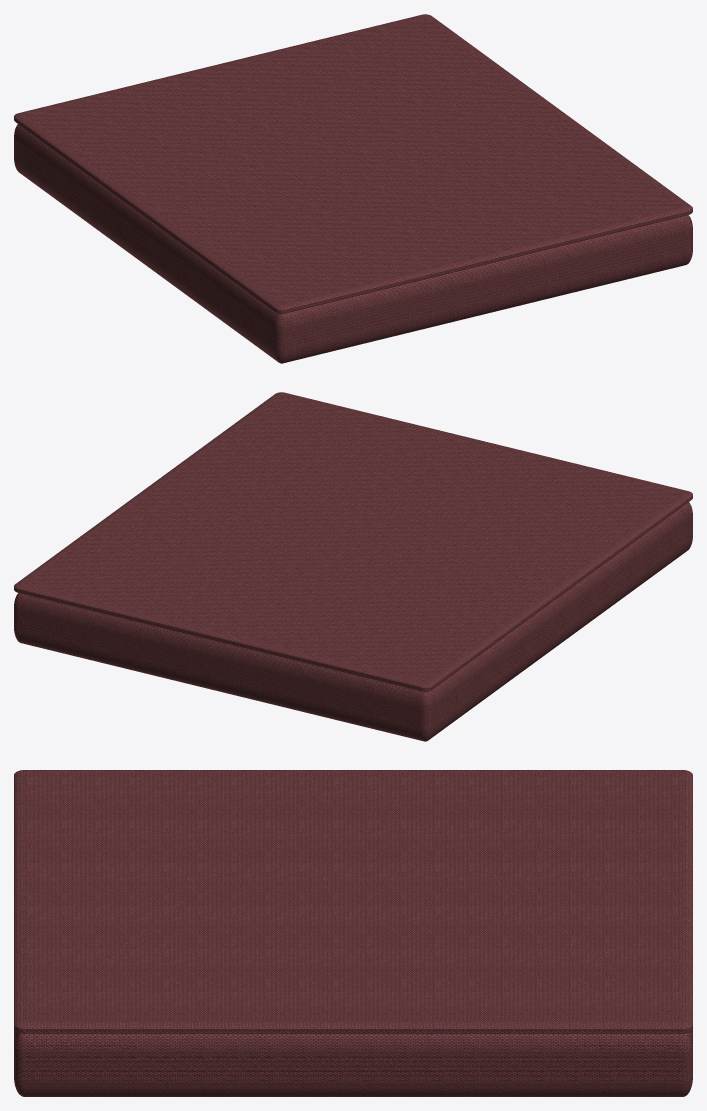
File: colchon.dae
3 views of the same model, one above another, from view 1: azimuth 30°, elevation 25°; view 2: azimuth 150°, elevation 25°; view 3: azimuth 270°, elevation 25° (orthographic). The views are drawn at different scales.
Visible parts, largest first — view 1: node; view 2: node; view 3: node.
Boxes of the visible parts, bbox=[...] form: node: bbox=[14, 14, 692, 363]; node: bbox=[14, 392, 692, 741]; node: bbox=[14, 770, 692, 1096].
Bounding box in the file's own units: 2119 × 285 × 2355.
